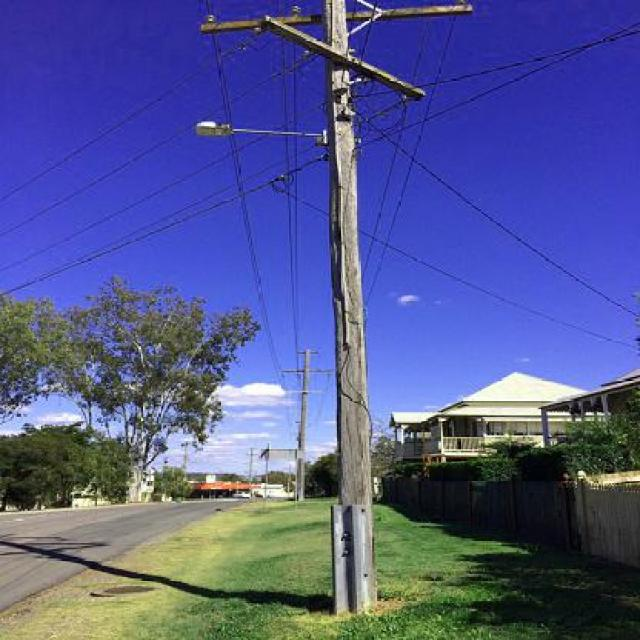pole: (240, 0, 475, 609)
